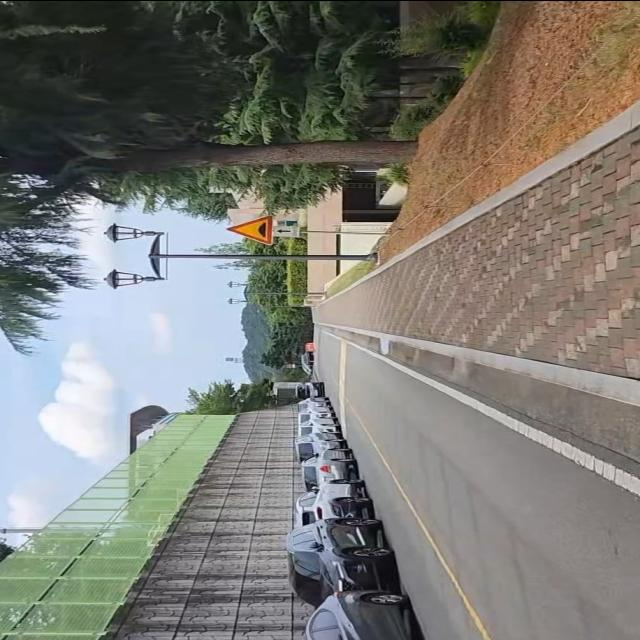obstacle: (292, 381, 432, 640), (95, 218, 386, 296), (220, 215, 395, 248)
road: (317, 324, 640, 640)
sidewalk: (313, 101, 640, 396)
